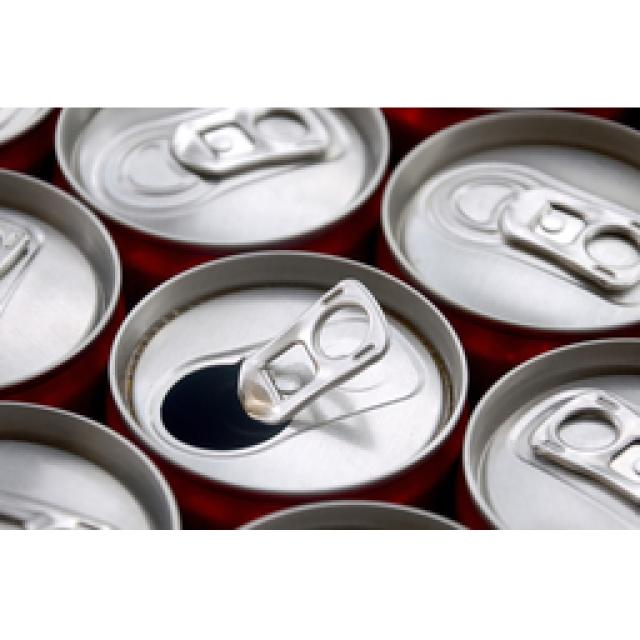aluminum_soda_cans: (102, 246, 475, 502), (387, 107, 640, 324), (50, 103, 390, 235), (462, 330, 640, 525)
